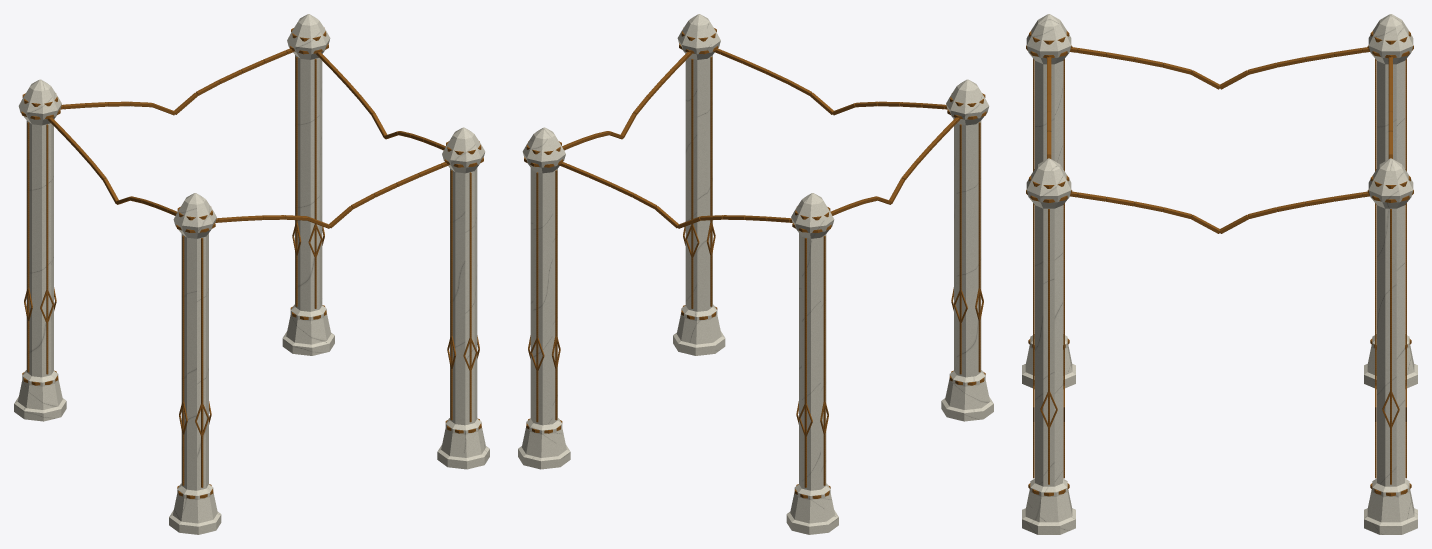
3 renders of one model, left to right at view 1: azimuth 30°, elevation 25°; view 2: azimuth 150°, elevation 25°; view 3: azimuth 270°, elevation 25°, orthographic. The views are drawn at different scales.
Visible parts, largest first — view 1: Marble pier stepped octagonal facing.002, Marble pier stepped octagonal facing.001, Marble pier stepped octagonal facing.003, Marble pier stepped octagonal facing, Vertical bronze facing rail.007, Vertical bronze facing rail.011, Vertical bronze facing rail.003, Vertical bronze facing rail.009, Vertical bronze facing rail.001, Vertical bronze facing rail.005, Vertical bronze facing rail.015, Vertical bronze facing rail.013; view 2: Marble pier stepped octagonal facing.003, Marble pier stepped octagonal facing, Marble pier stepped octagonal facing.002, Marble pier stepped octagonal facing.001, Vertical bronze facing rail.002, Vertical bronze facing rail.014, Vertical bronze facing rail.006, Vertical bronze facing rail.013, Vertical bronze facing rail.005, Vertical bronze facing rail.001, Vertical bronze facing rail.010, Vertical bronze facing rail.009; view 3: Marble pier stepped octagonal facing.002, Marble pier stepped octagonal facing.003, Marble pier stepped octagonal facing, Marble pier stepped octagonal facing.001, Vertical bronze facing rail.008, Vertical bronze facing rail.012, Vertical bronze facing rail.010, Vertical bronze facing rail.011, Vertical bronze facing rail.014, Vertical bronze facing rail.015.
Boxes of the visible parts, bbox=[...] form: Marble pier stepped octagonal facing.002: bbox=[437, 127, 489, 469]; Marble pier stepped octagonal facing.001: bbox=[14, 79, 66, 421]; Marble pier stepped octagonal facing.003: bbox=[282, 14, 334, 355]; Marble pier stepped octagonal facing: bbox=[169, 193, 221, 534]; Vertical bronze facing rail.007: bbox=[46, 124, 48, 374]; Vertical bronze facing rail.011: bbox=[469, 172, 471, 422]; Vertical bronze facing rail.003: bbox=[201, 238, 203, 487]; Vertical bronze facing rail.009: bbox=[450, 170, 452, 420]; Vertical bronze facing rail.001: bbox=[182, 235, 184, 485]; Vertical bronze facing rail.005: bbox=[27, 122, 29, 372]; Vertical bronze facing rail.015: bbox=[314, 59, 316, 308]; Vertical bronze facing rail.013: bbox=[295, 57, 297, 306]; Marble pier stepped octagonal facing.003: bbox=[518, 127, 570, 469]; Marble pier stepped octagonal facing: bbox=[941, 79, 993, 421]; Marble pier stepped octagonal facing.002: bbox=[673, 14, 725, 355]; Marble pier stepped octagonal facing.001: bbox=[786, 193, 838, 534]; Vertical bronze facing rail.002: bbox=[959, 124, 961, 374]; Vertical bronze facing rail.014: bbox=[536, 172, 538, 422]; Vertical bronze facing rail.006: bbox=[804, 238, 806, 487]; Vertical bronze facing rail.013: bbox=[555, 170, 557, 420]; Vertical bronze facing rail.005: bbox=[823, 235, 825, 485]; Vertical bronze facing rail.001: bbox=[978, 122, 980, 372]; Vertical bronze facing rail.010: bbox=[691, 59, 693, 308]; Vertical bronze facing rail.009: bbox=[710, 57, 712, 306]; Marble pier stepped octagonal facing.002: bbox=[1022, 158, 1075, 534]; Marble pier stepped octagonal facing.003: bbox=[1364, 158, 1417, 534]; Marble pier stepped octagonal facing: bbox=[1022, 14, 1075, 388]; Marble pier stepped octagonal facing.001: bbox=[1364, 14, 1417, 388]; Vertical bronze facing rail.008: bbox=[1048, 209, 1049, 484]; Vertical bronze facing rail.012: bbox=[1390, 209, 1391, 484]; Vertical bronze facing rail.010: bbox=[1063, 203, 1064, 478]; Vertical bronze facing rail.011: bbox=[1033, 203, 1034, 478]; Vertical bronze facing rail.014: bbox=[1405, 203, 1406, 478]; Vertical bronze facing rail.015: bbox=[1375, 203, 1376, 478].
Size of the model in its own units: 3.94 by 4 by 3.94.
Materials: 3 (3 with a texture image).
